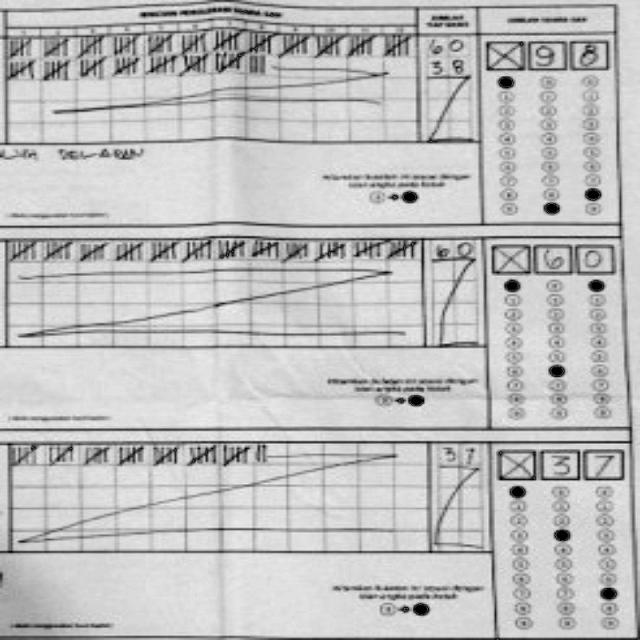Suara: (494, 446, 627, 484), (486, 239, 619, 275), (482, 36, 612, 70)
